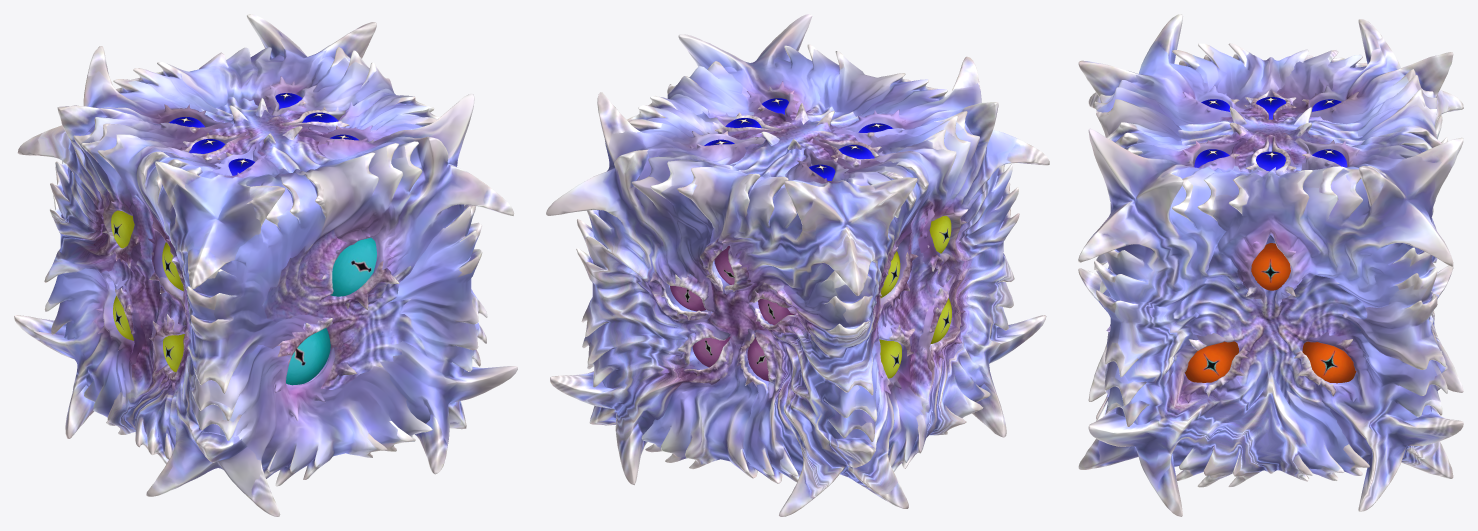
The picture shows the model from 3 angles, left to right: view 1: azimuth 30°, elevation 25°; view 2: azimuth 150°, elevation 25°; view 3: azimuth 270°, elevation 25°; orthographic projection. The views are drawn at different scales.
Visible parts, largest first — view 1: BODY, EYE.006, EYE.005, EYE.004, EYE.002; view 2: BODY, EYE.011, EYE.001, EYE.003, EYE.008; view 3: BODY, EYE.019, EYE.020, EYE.018, EYE.015.
Part boxes in pixels (left/top/right/bottom): BODY: left=14, top=14, right=517, bottom=516; EYE.006: left=330, top=237, right=376, bottom=296; EYE.005: left=286, top=328, right=330, bottom=385; EYE.004: left=111, top=210, right=134, bottom=248; EYE.002: left=163, top=334, right=184, bottom=372; BODY: left=546, top=14, right=1049, bottom=516; EYE.011: left=692, top=336, right=730, bottom=367; EYE.001: left=879, top=339, right=901, bottom=378; EYE.003: left=929, top=216, right=951, bottom=253; EYE.008: left=747, top=337, right=769, bottom=381; BODY: left=1078, top=14, right=1463, bottom=516; EYE.019: left=1185, top=341, right=1238, bottom=382; EYE.020: left=1302, top=341, right=1356, bottom=383; EYE.018: left=1251, top=243, right=1290, bottom=290; EYE.015: left=1256, top=151, right=1285, bottom=171.
Bounding box in the file's own units: 1.1 × 1.1 × 1.1.
Materials: 7 (7 with a texture image).
